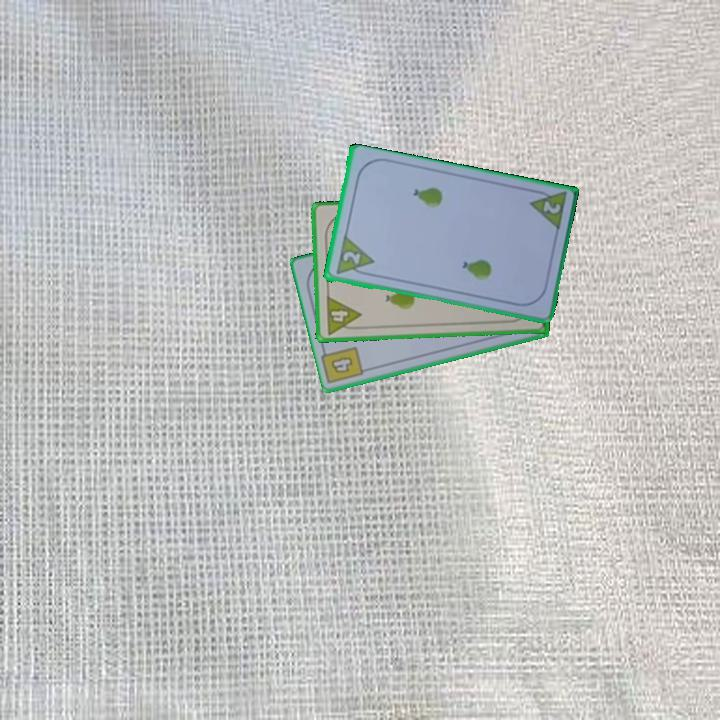2p: (525, 186, 569, 234), (339, 248, 364, 268)
4b: (327, 353, 356, 377)
4p: (322, 293, 364, 337)
